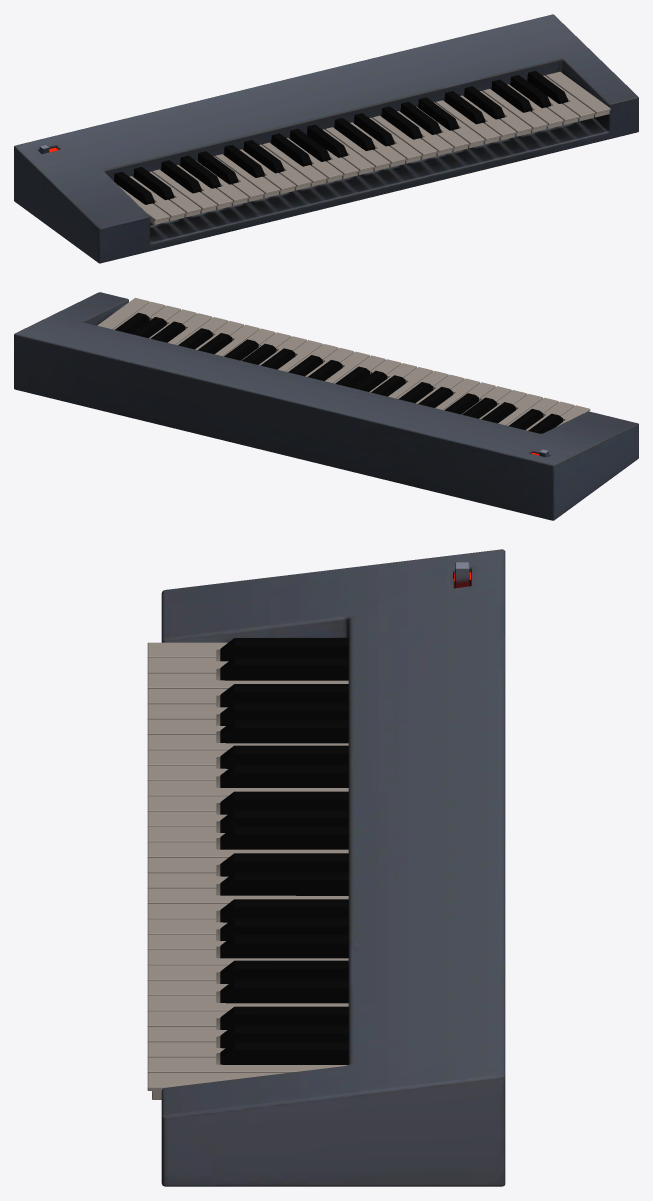
File: PIANO.glb
3 views of the same model, one above another, from view 1: azimuth 30°, elevation 25°; view 2: azimuth 150°, elevation 25°; view 3: azimuth 270°, elevation 25° (orthographic). The views are drawn at different scales.
Visible parts, largest first — view 1: Piano_Body, C7, C5, C6, F5, F4, F3, C4, F6, D_Sharp5, F_Sharp5, F_Sharp3 (+38 smaller); view 2: Piano_Body, C7, C5, C4, F5, C6, F4, F6, F3, F_Sharp5, A_Sharp3, F_Sharp3 (+17 smaller); view 3: Piano_Body, A_Sharp5, D_Sharp3, A_Sharp3, D_Sharp6, A_Sharp4, D_Sharp5, A_Sharp6, D_Sharp4, C_Sharp3, C_Sharp5, C_Sharp4 (+38 smaller).
Boxes of the visible parts, <box> form: Piano_Body: <box>14,14,638,263</box>; C7: <box>546,71,610,117</box>; C5: <box>325,127,390,171</box>; C6: <box>435,100,500,144</box>; F5: <box>373,115,437,159</box>; F4: <box>262,142,327,186</box>; F3: <box>152,169,217,213</box>; C4: <box>215,154,280,197</box>; F6: <box>483,89,547,132</box>; D_Sharp5: <box>354,113,394,146</box>; F_Sharp5: <box>381,106,422,139</box>; F_Sharp3: <box>161,160,201,193</box>; Piano_Body: <box>14,292,638,520</box>; C7: <box>97,297,149,329</box>; C5: <box>325,351,369,382</box>; C4: <box>435,378,479,409</box>; F5: <box>278,340,322,371</box>; C6: <box>215,324,259,356</box>; F4: <box>388,367,432,398</box>; F6: <box>167,313,212,344</box>; F3: <box>498,394,542,425</box>; F_Sharp5: <box>260,348,295,369</box>; A_Sharp3: <box>444,393,479,414</box>; F_Sharp3: <box>481,402,515,423</box>; Piano_Body: <box>161,549,505,1186</box>; A_Sharp5: <box>220,935,348,958</box>; D_Sharp3: <box>220,657,348,680</box>; A_Sharp3: <box>220,720,348,743</box>; D_Sharp6: <box>220,980,348,1003</box>; A_Sharp4: <box>220,826,348,849</box>; D_Sharp5: <box>220,872,348,895</box>; A_Sharp6: <box>220,1041,348,1064</box>; D_Sharp4: <box>220,764,348,787</box>; C_Sharp3: <box>220,638,348,661</box>; C_Sharp5: <box>220,853,348,876</box>; C_Sharp4: <box>220,745,348,768</box>.
Bounding box in the file's own units: 7.26 × 0.7394 × 2.08.
Materials: 4 (1 with a texture image).
